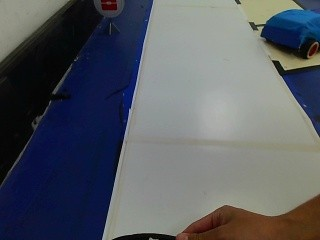car: (256, 5, 318, 60)
